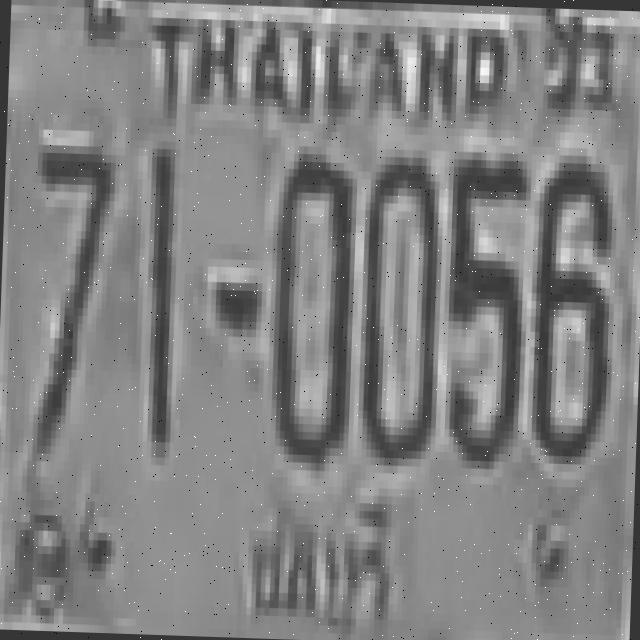0: (265, 144, 353, 463), (356, 148, 440, 458)
1: (140, 140, 178, 450)
5: (441, 150, 525, 462)
6: (528, 154, 611, 457)
7: (28, 136, 112, 447)
Chonburi: (230, 488, 410, 638)
